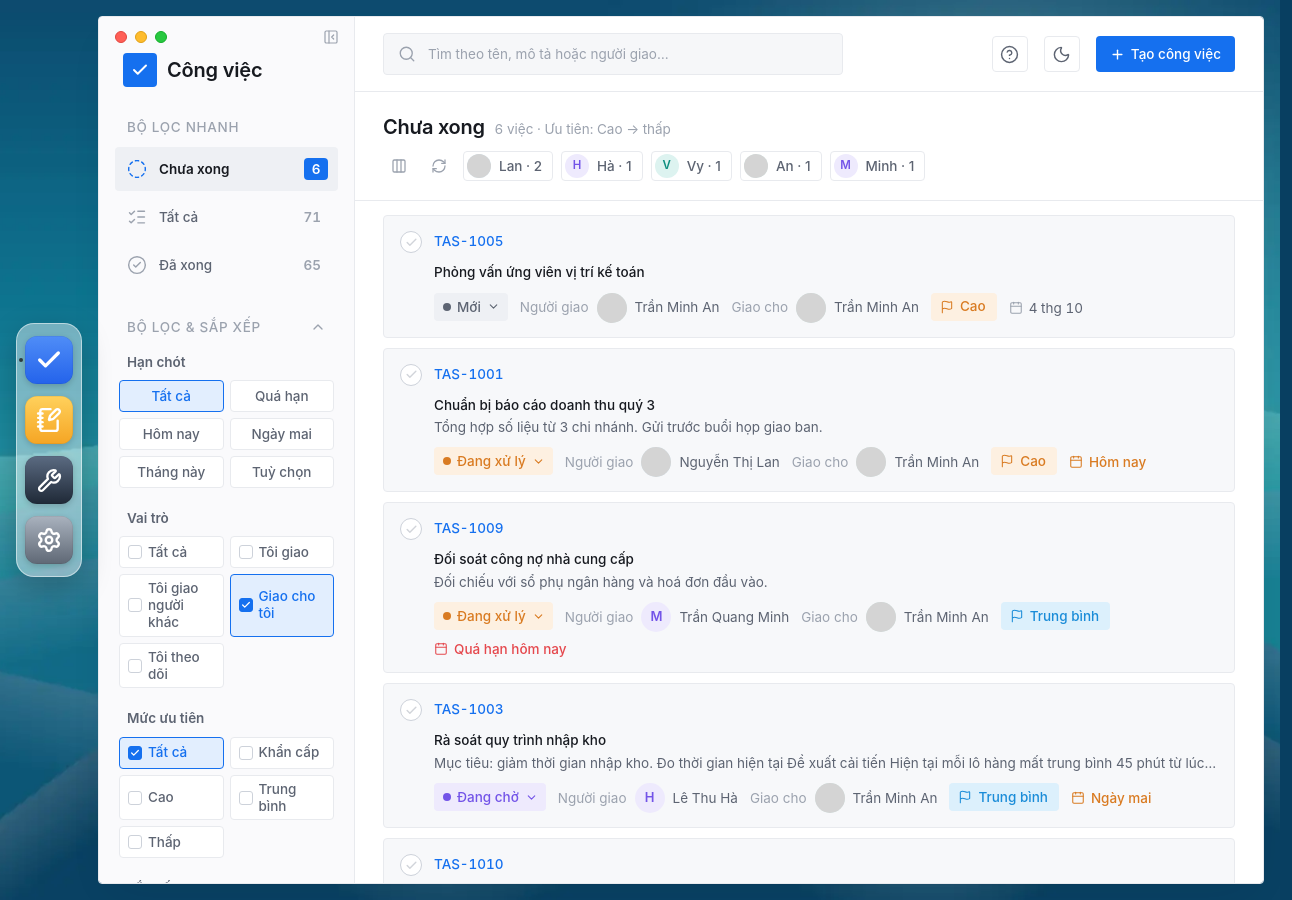
Test case: Desktop: the loading frame of a window whose code is not there yet › opens a window at once when its code was preloaded
The width and height of the screenshot is (1292, 900).
Click the button with test id "dock-app-ghi-chu": (49, 420) [25,396,73,444]
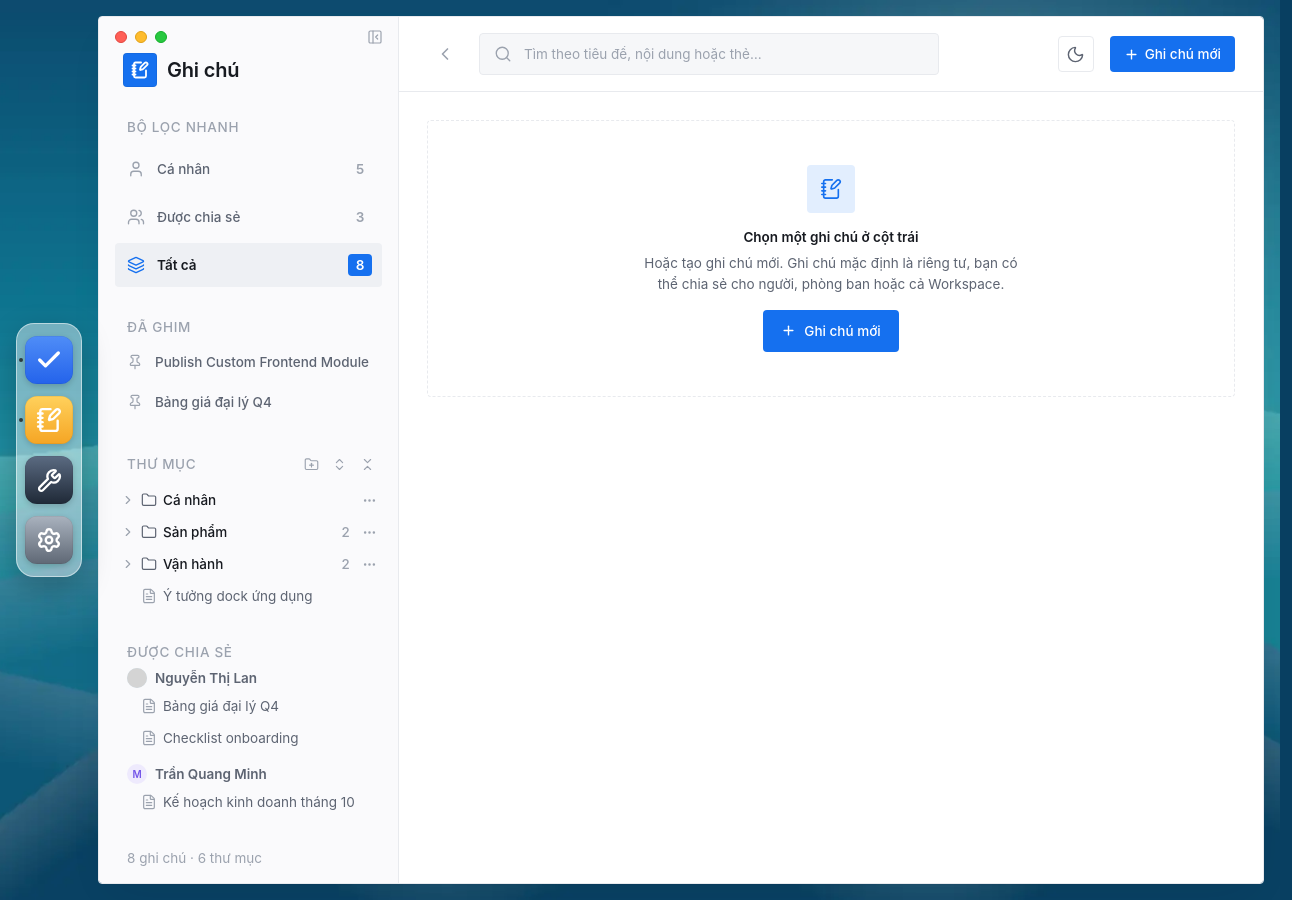
Result: the element with test id "notes-app" is shown
